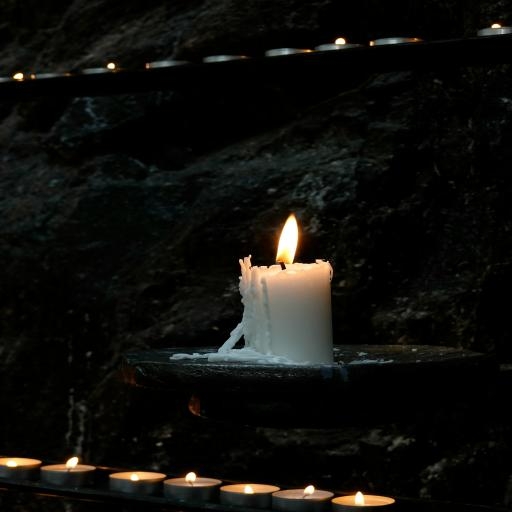candlelight: (212, 214, 353, 354)
